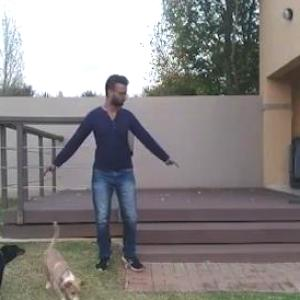land: (48, 86, 203, 262)
